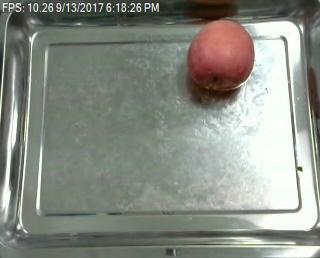apple: (189, 19, 256, 92)
